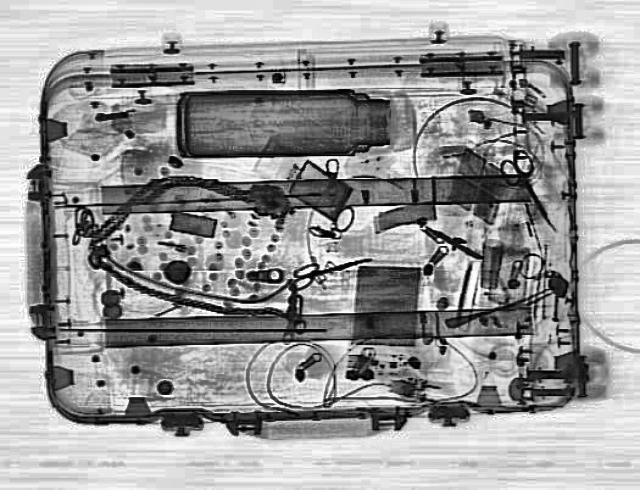Scissors: (486, 147, 574, 236), (282, 247, 376, 290)
